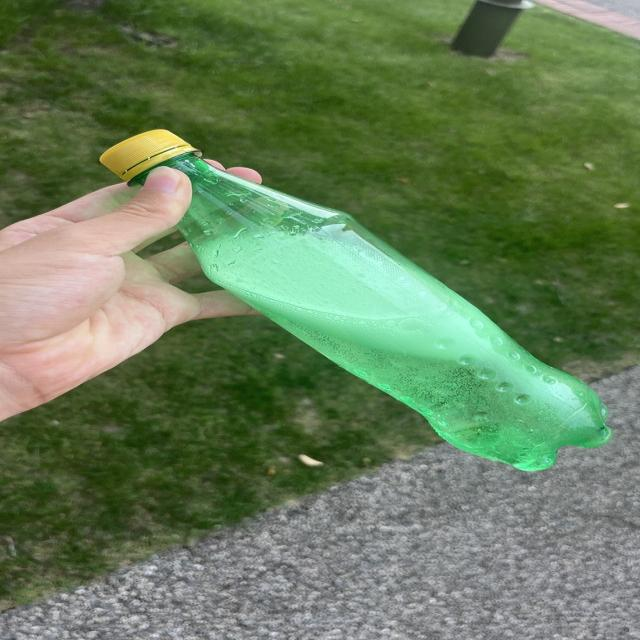medium: (100, 130, 610, 471)
